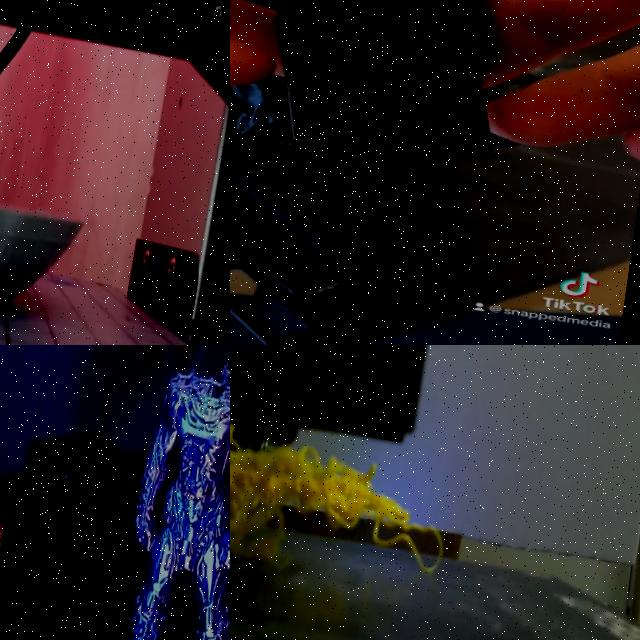spaghetti: (230, 421, 444, 572)
